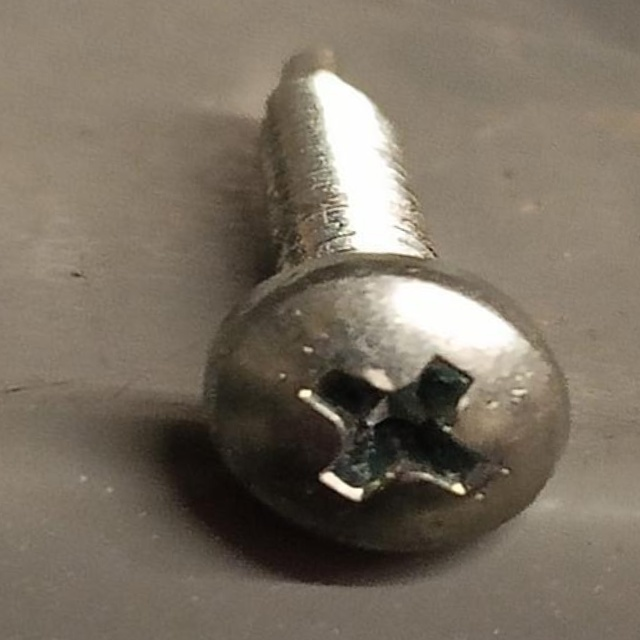phillips: (198, 228, 576, 574)
